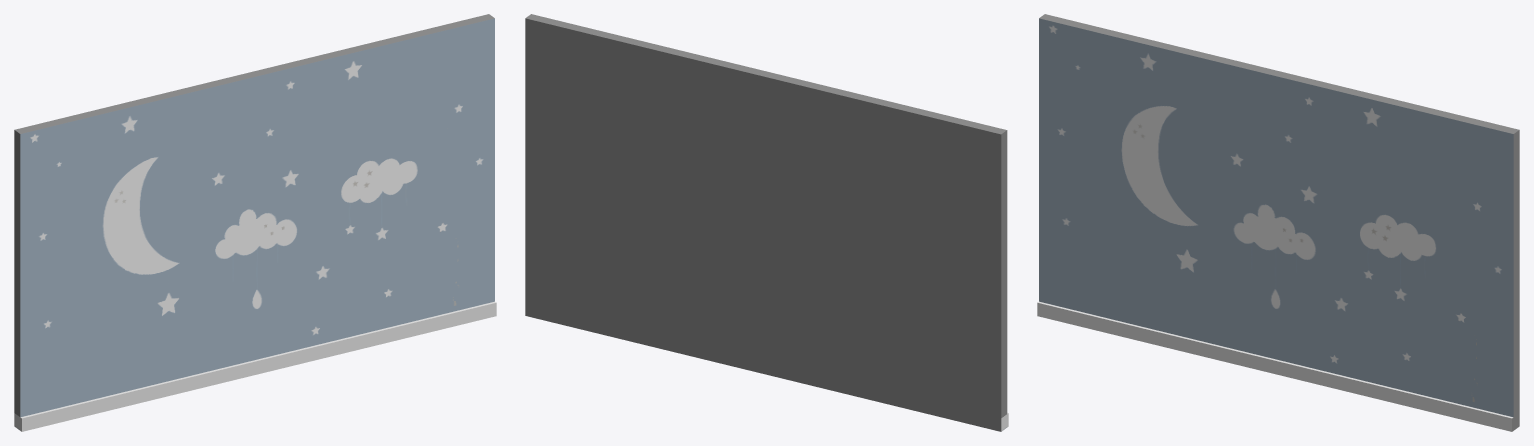
The model's file is Wall 3.FBX.
The picture shows the model from 3 angles, left to right: view 1: azimuth 30°, elevation 25°; view 2: azimuth 150°, elevation 25°; view 3: azimuth 330°, elevation 25°; orthographic projection.
Parts seen in each view (by area): view 1: Wall 3; view 2: Wall 3; view 3: Wall 3.
Boxes of the visible parts, bbox=[...] form: Wall 3: bbox=[14, 14, 496, 431]; Wall 3: bbox=[525, 14, 1008, 431]; Wall 3: bbox=[1037, 14, 1519, 431].
Size of the model in its own units: 412 by 246 by 11.22.
Materials: 2 (1 with a texture image).
